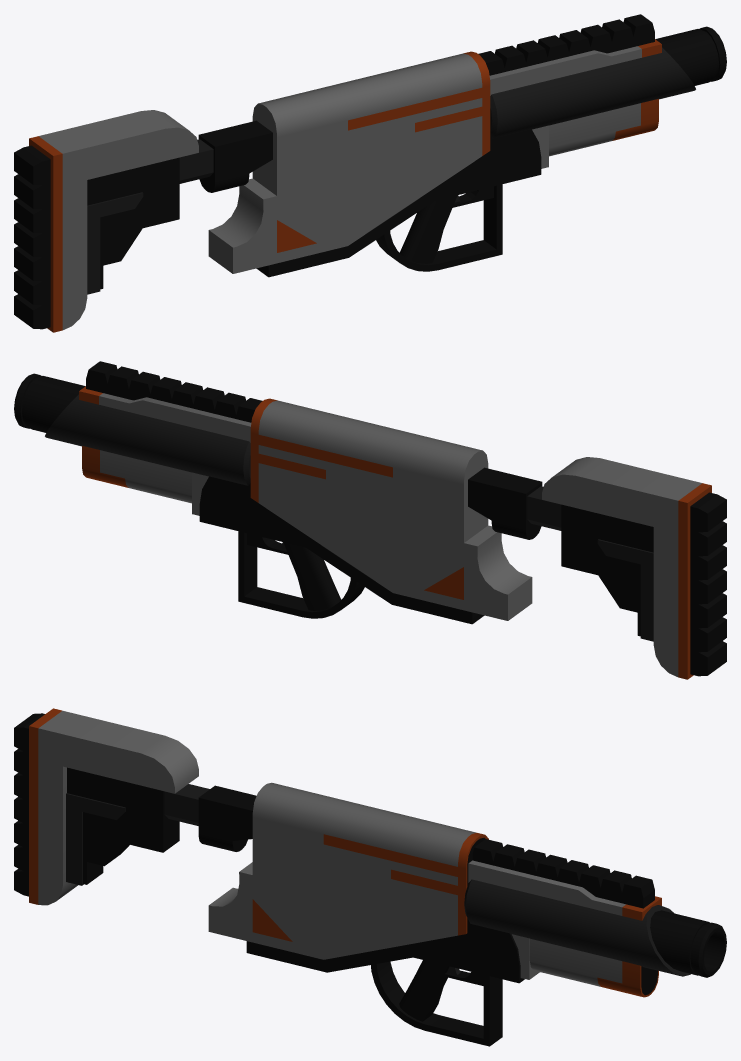
Rendered from Granada.obj.
3 views of the same model, one above another, from view 1: azimuth 30°, elevation 25°; view 2: azimuth 150°, elevation 25°; view 3: azimuth 330°, elevation 25° (orthographic).
Visible parts, largest first — view 1: Grenade_1_Cube.012; view 2: Grenade_1_Cube.012; view 3: Grenade_1_Cube.012.
Part boxes in pixels (left/top/right/bottom): Grenade_1_Cube.012: left=14, top=14, right=726, bottom=332; Grenade_1_Cube.012: left=14, top=361, right=726, bottom=679; Grenade_1_Cube.012: left=14, top=708, right=726, bottom=1046.
Bounding box in the file's own units: 1.81 × 0.5339 × 0.1459.
